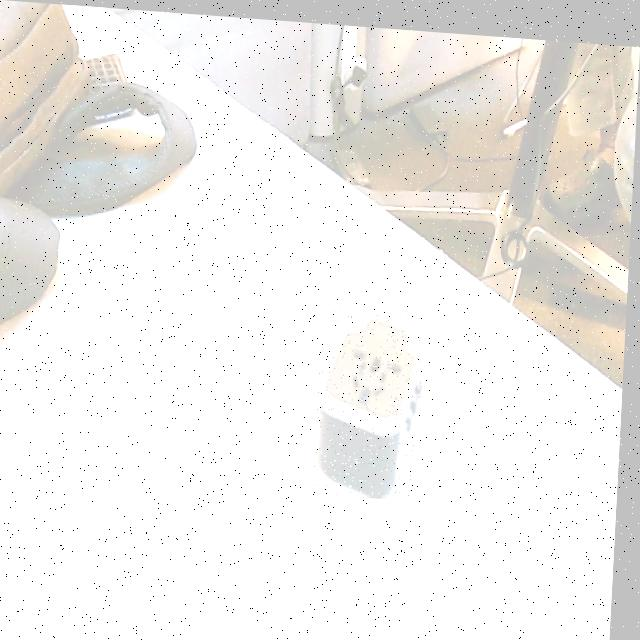adapter: (317, 303, 429, 495)
